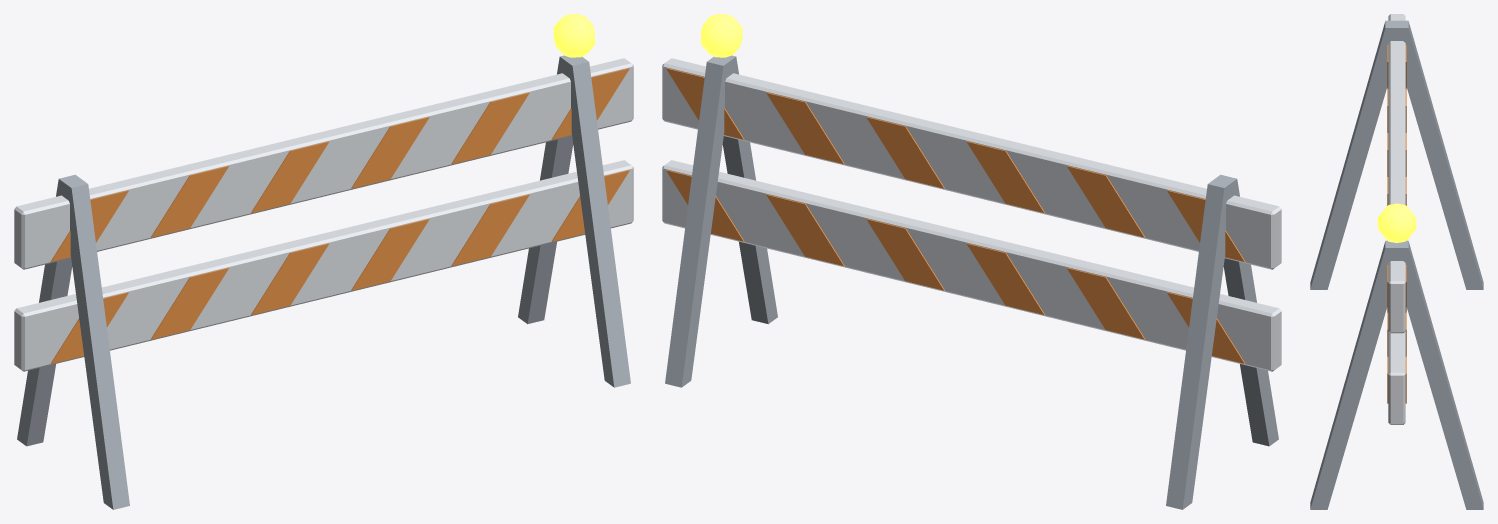
Rendered from barrier.glb.
3 views of the same model, side by side, from view 1: azimuth 30°, elevation 25°; view 2: azimuth 150°, elevation 25°; view 3: azimuth 270°, elevation 25° (orthographic). The views are drawn at different scales.
Visible parts, largest first — view 1: barrier; view 2: barrier; view 3: barrier.
Boxes of the visible parts, x1,y1,x2,y2 form: barrier: (14,14,633,509); barrier: (662,14,1281,509); barrier: (1310,14,1483,509).
Size of the model in its own units: 2.2 by 1.15 by 0.6.
